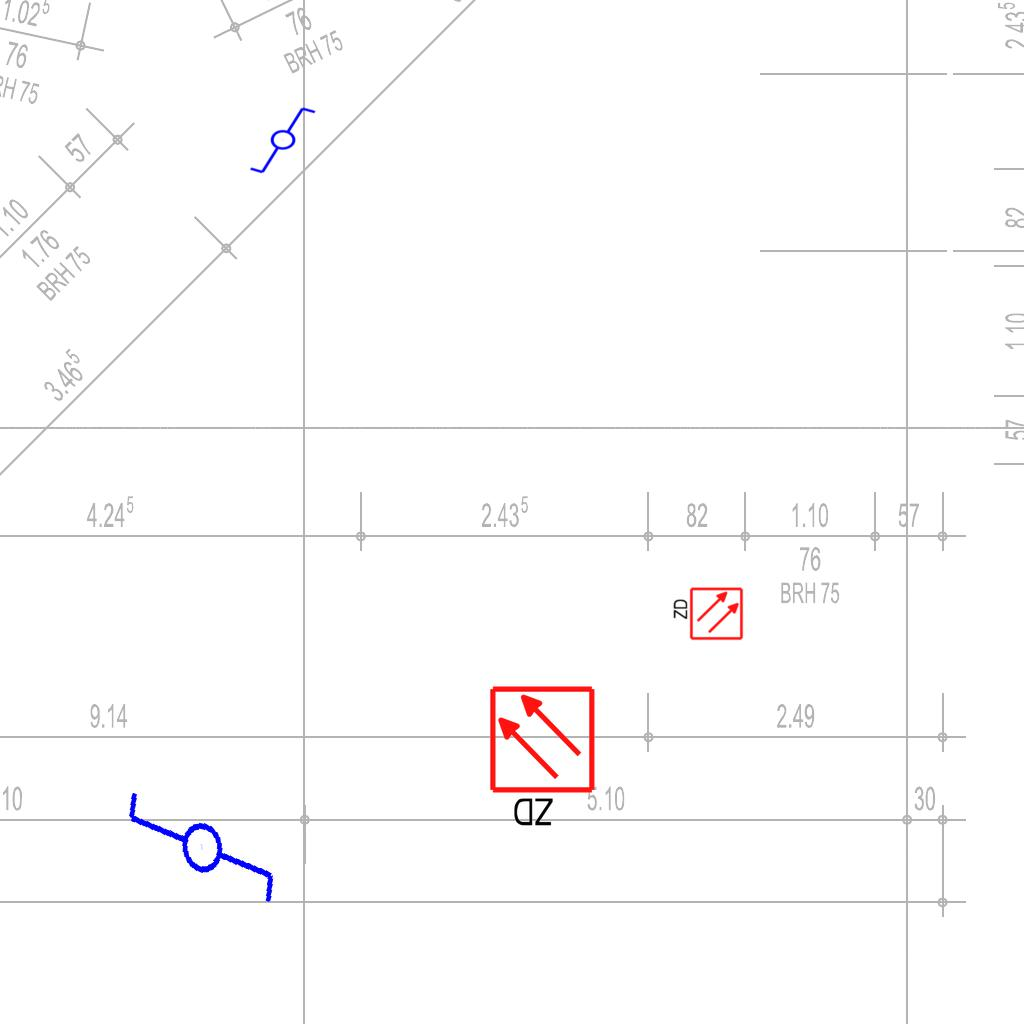Wechselschalter: (116, 766, 287, 946), (248, 105, 326, 177)
ZD_Melder_in_Zwischendecke_mit_Revisionsoeffnung_mind_40_x_40_cm: (487, 684, 601, 833), (670, 586, 744, 643)
